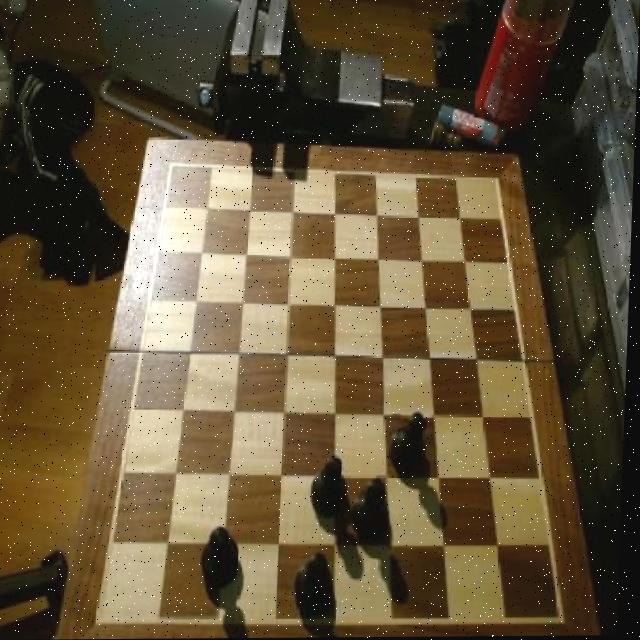black-knight: (203, 523, 249, 595), (295, 552, 338, 622), (351, 478, 395, 546), (391, 407, 434, 475), (313, 453, 353, 521)
